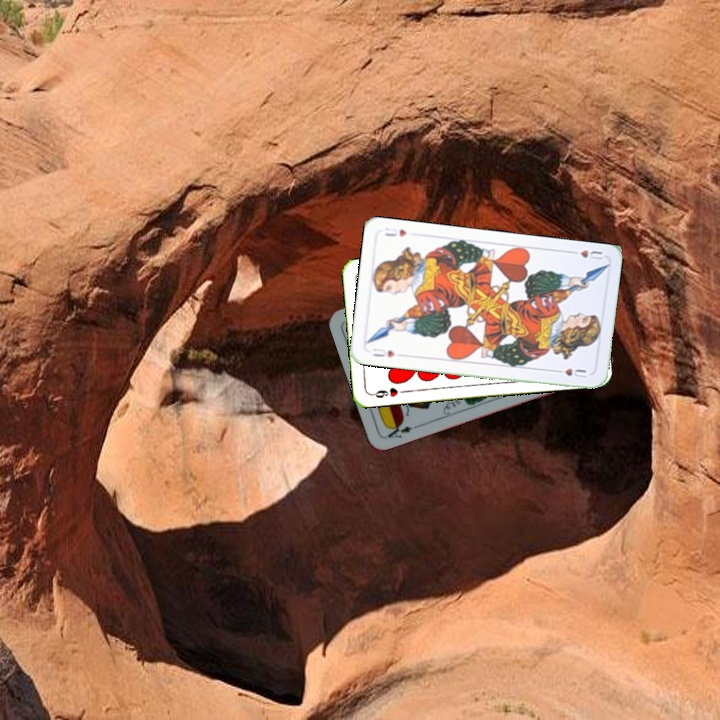EA: (382, 419, 415, 441)
H9: (367, 384, 408, 401)
HU: (566, 246, 605, 262), (369, 344, 397, 360)
